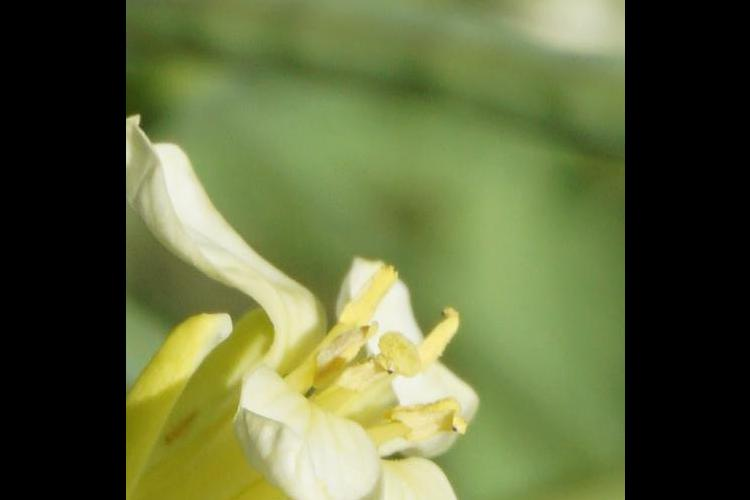white: (147, 137, 494, 500)
